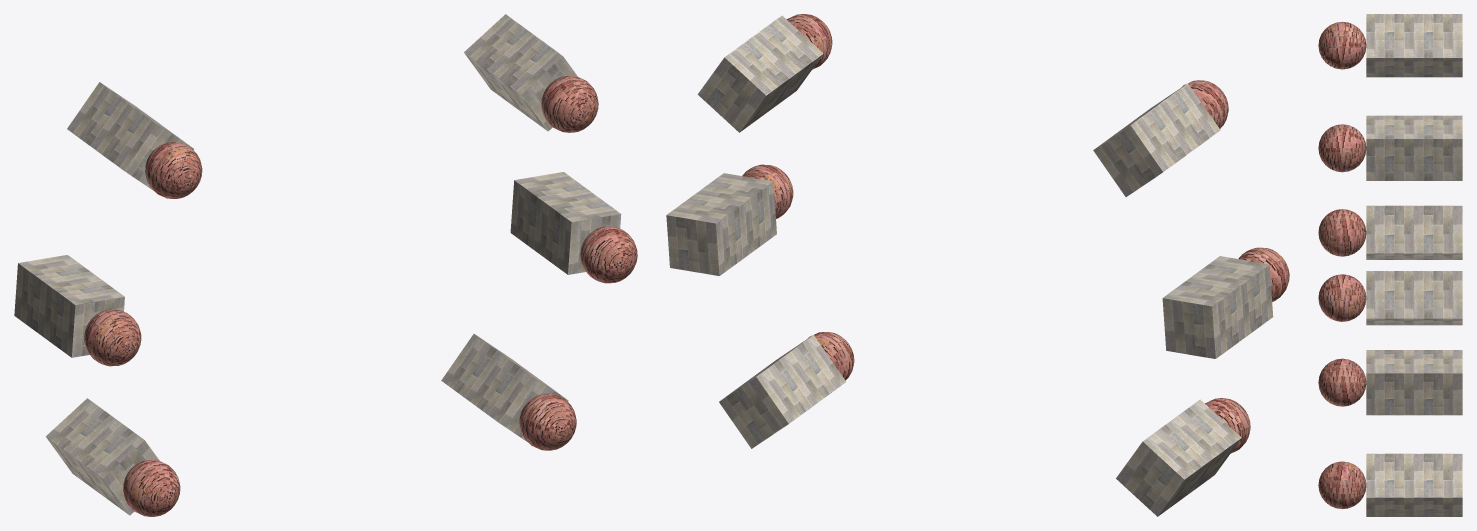
Rendered from Stellarium-Testscene.obj.
The picture shows the model from 3 angles, left to right: view 1: azimuth 30°, elevation 25°; view 2: azimuth 150°, elevation 25°; view 3: azimuth 270°, elevation 25°; orthographic projection. The views are drawn at different scales.
Visible parts, largest first — view 1: Stein_Mauerwerk_mehrfarbig, Stein_Platte_Quaderstein; view 2: Stein_Mauerwerk_mehrfarbig, Stein_Platte_Quaderstein; view 3: Stein_Mauerwerk_mehrfarbig, Stein_Platte_Quaderstein.
Part boxes in pixels (bbox=[...]): Stein_Mauerwerk_mehrfarbig: bbox=[14, 14, 621, 515]; Stein_Platte_Quaderstein: bbox=[84, 76, 637, 516]; Stein_Mauerwerk_mehrfarbig: bbox=[666, 15, 1273, 516]; Stein_Platte_Quaderstein: bbox=[742, 14, 1289, 453]; Stein_Mauerwerk_mehrfarbig: bbox=[1366, 14, 1462, 516]; Stein_Platte_Quaderstein: bbox=[1318, 21, 1366, 509].
Size of the model in its own units: 11.04 by 8 by 3.
2 materials, 2 textured.
